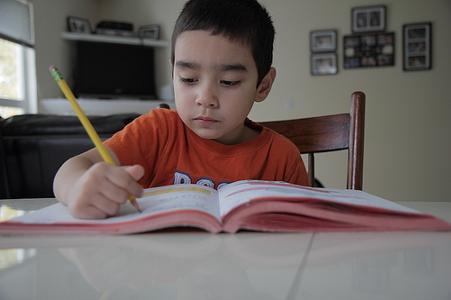person: (53, 2, 313, 220)
